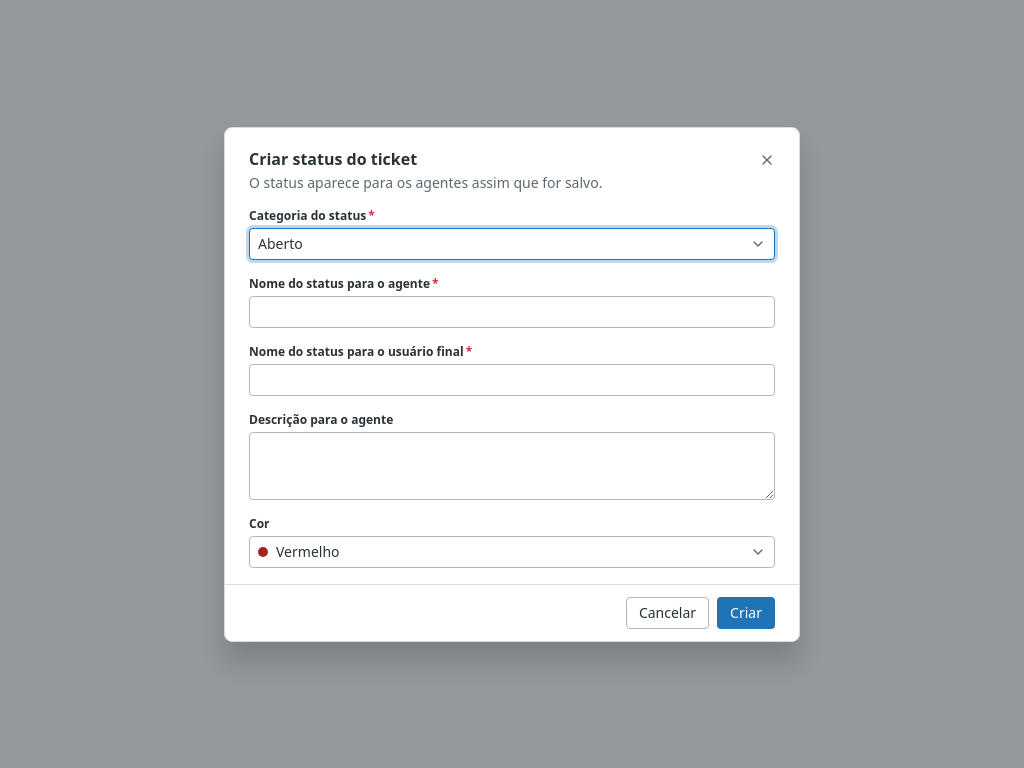
Scenario: StatusModal: erros do backend no formulário › nome repetido (400): a mensagem aparece no campo, o modal fica aberto e nada digitado se perde
Type "Aberto" into the field labelled "Nome do status para o agente*". click: point(512, 312)
box: [250,296,774,326]
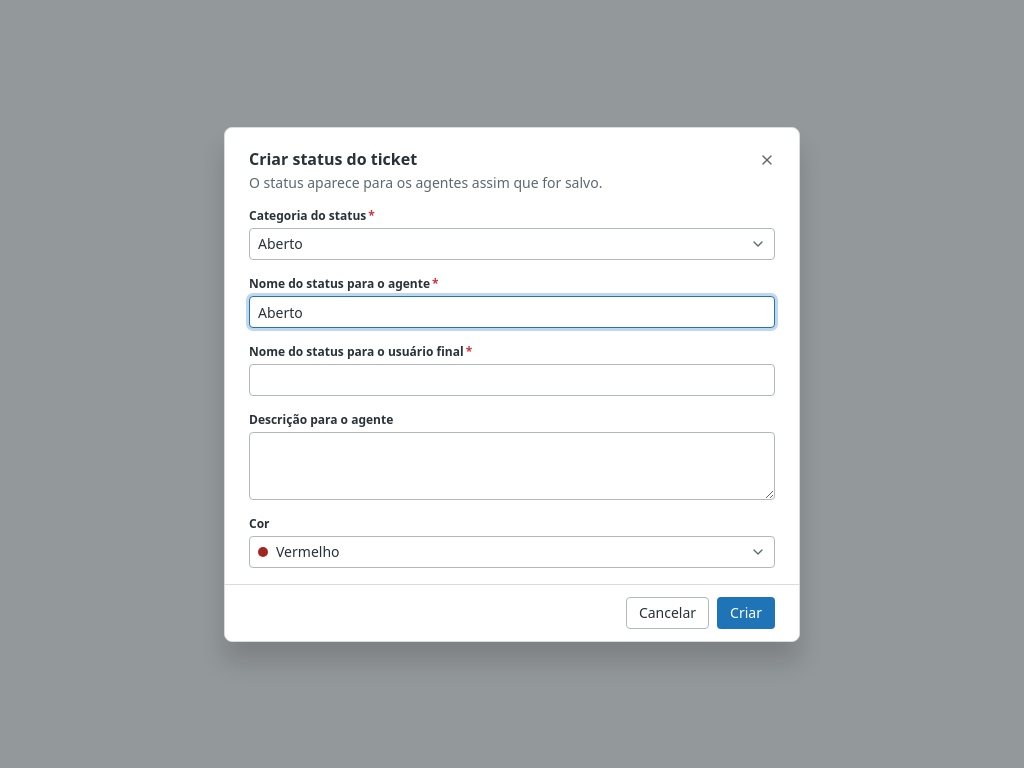
Type "Aberto p/ cliente" into the field labelled "Nome do status para o usuário final*". click: point(512, 380)
box: [250,364,774,394]
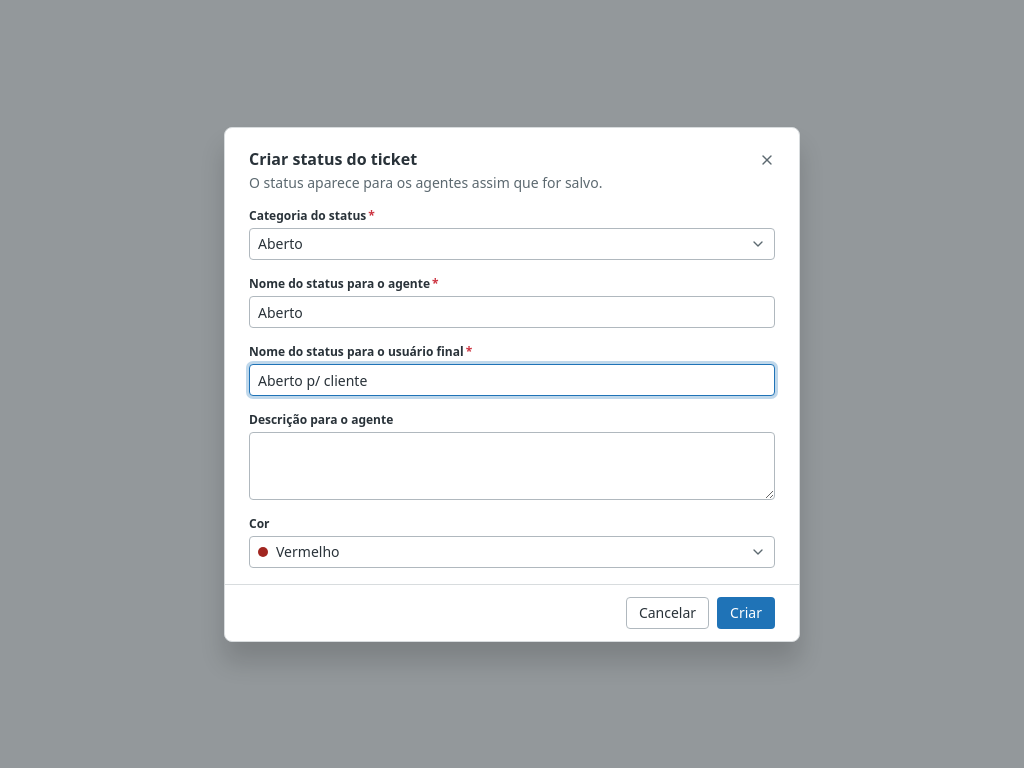
Type "minha descrição" into the text box labelled "Descrição para o agente". click: point(512, 466)
box: [249,432,775,500]
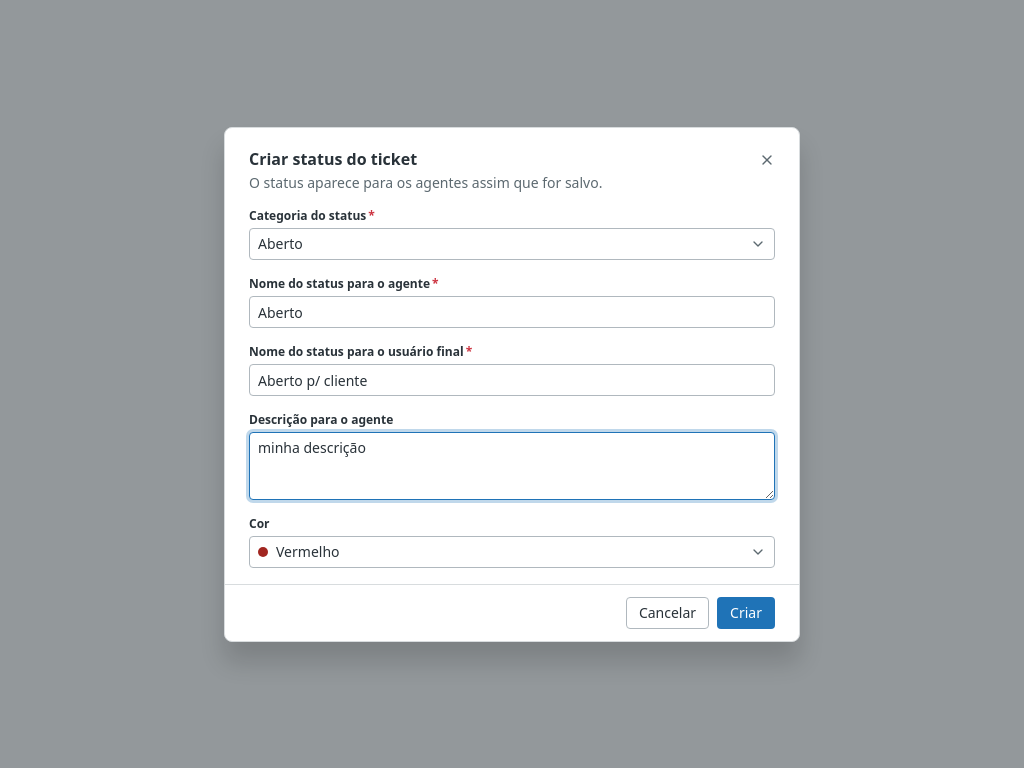
Click the button "Criar". click: point(746, 612)
box: [717,596,775,628]
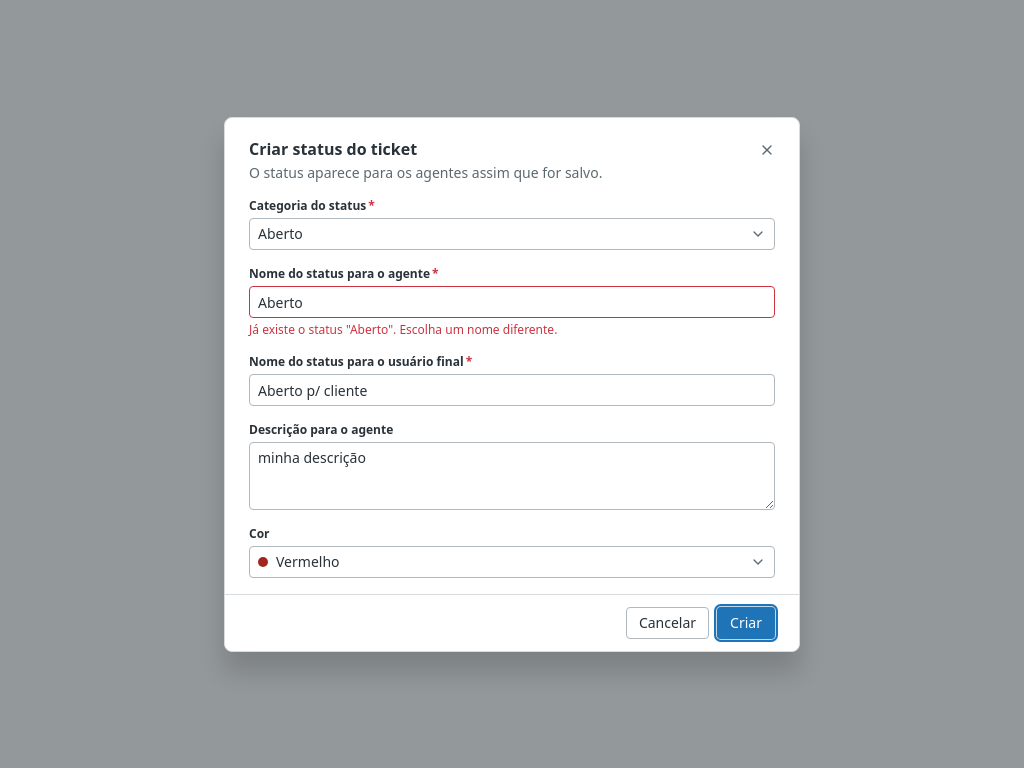
Now the text "Já existe o status \"Aberto\". Escolha um nome diferente." is shown, box [249,320,557,338]
